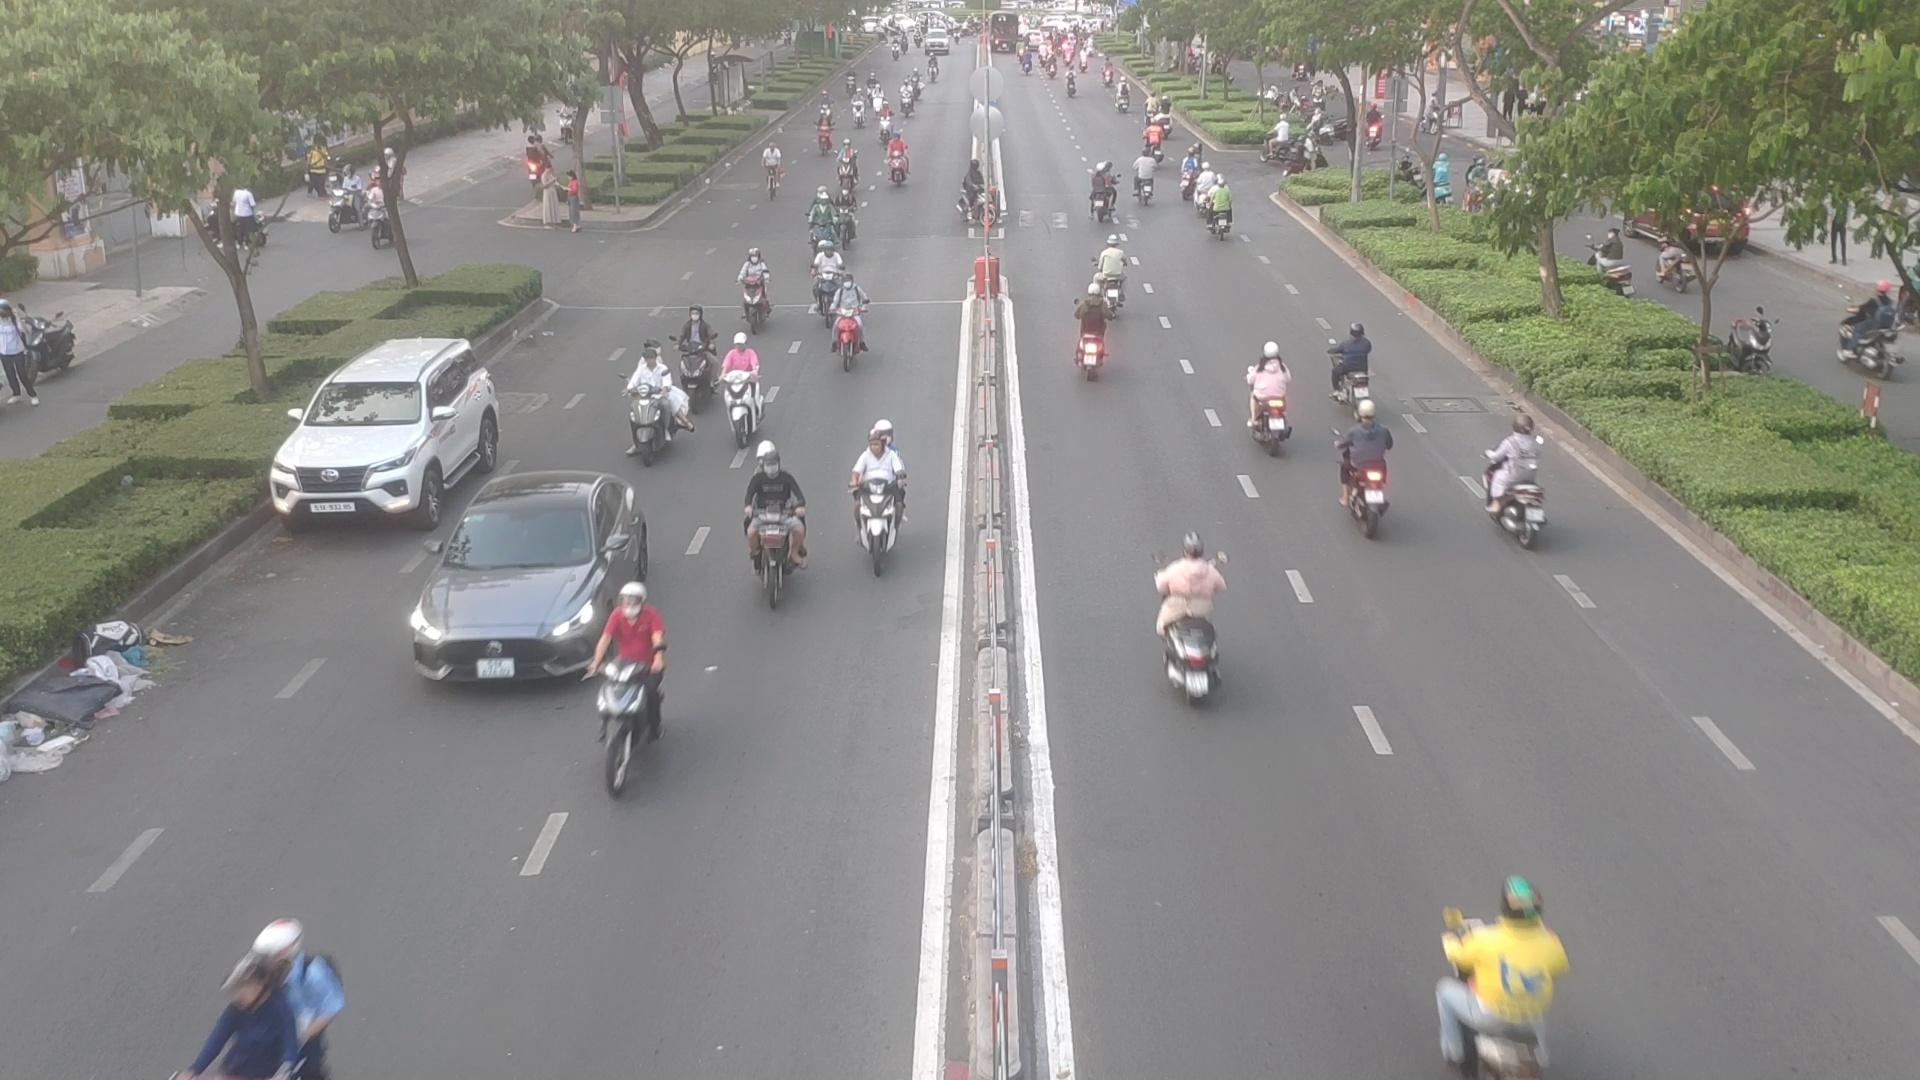car: (400, 471, 650, 688), (276, 339, 516, 531)
motorbike: (1424, 878, 1573, 1077), (193, 922, 344, 1079), (585, 591, 676, 785), (1138, 535, 1228, 698), (742, 458, 818, 605), (1478, 421, 1553, 546), (1331, 406, 1406, 527), (848, 433, 909, 572), (620, 351, 694, 455), (1841, 282, 1919, 380), (812, 276, 880, 368), (1242, 340, 1298, 446), (671, 318, 728, 411), (709, 336, 767, 423), (1065, 290, 1113, 396), (1083, 240, 1135, 318), (1324, 324, 1373, 407), (731, 255, 777, 331), (953, 161, 1002, 229), (1201, 175, 1246, 241), (814, 251, 858, 303), (1087, 158, 1116, 222), (880, 138, 914, 190), (810, 191, 833, 252), (839, 183, 862, 243), (1134, 156, 1160, 207), (836, 138, 865, 178), (816, 113, 832, 152)
